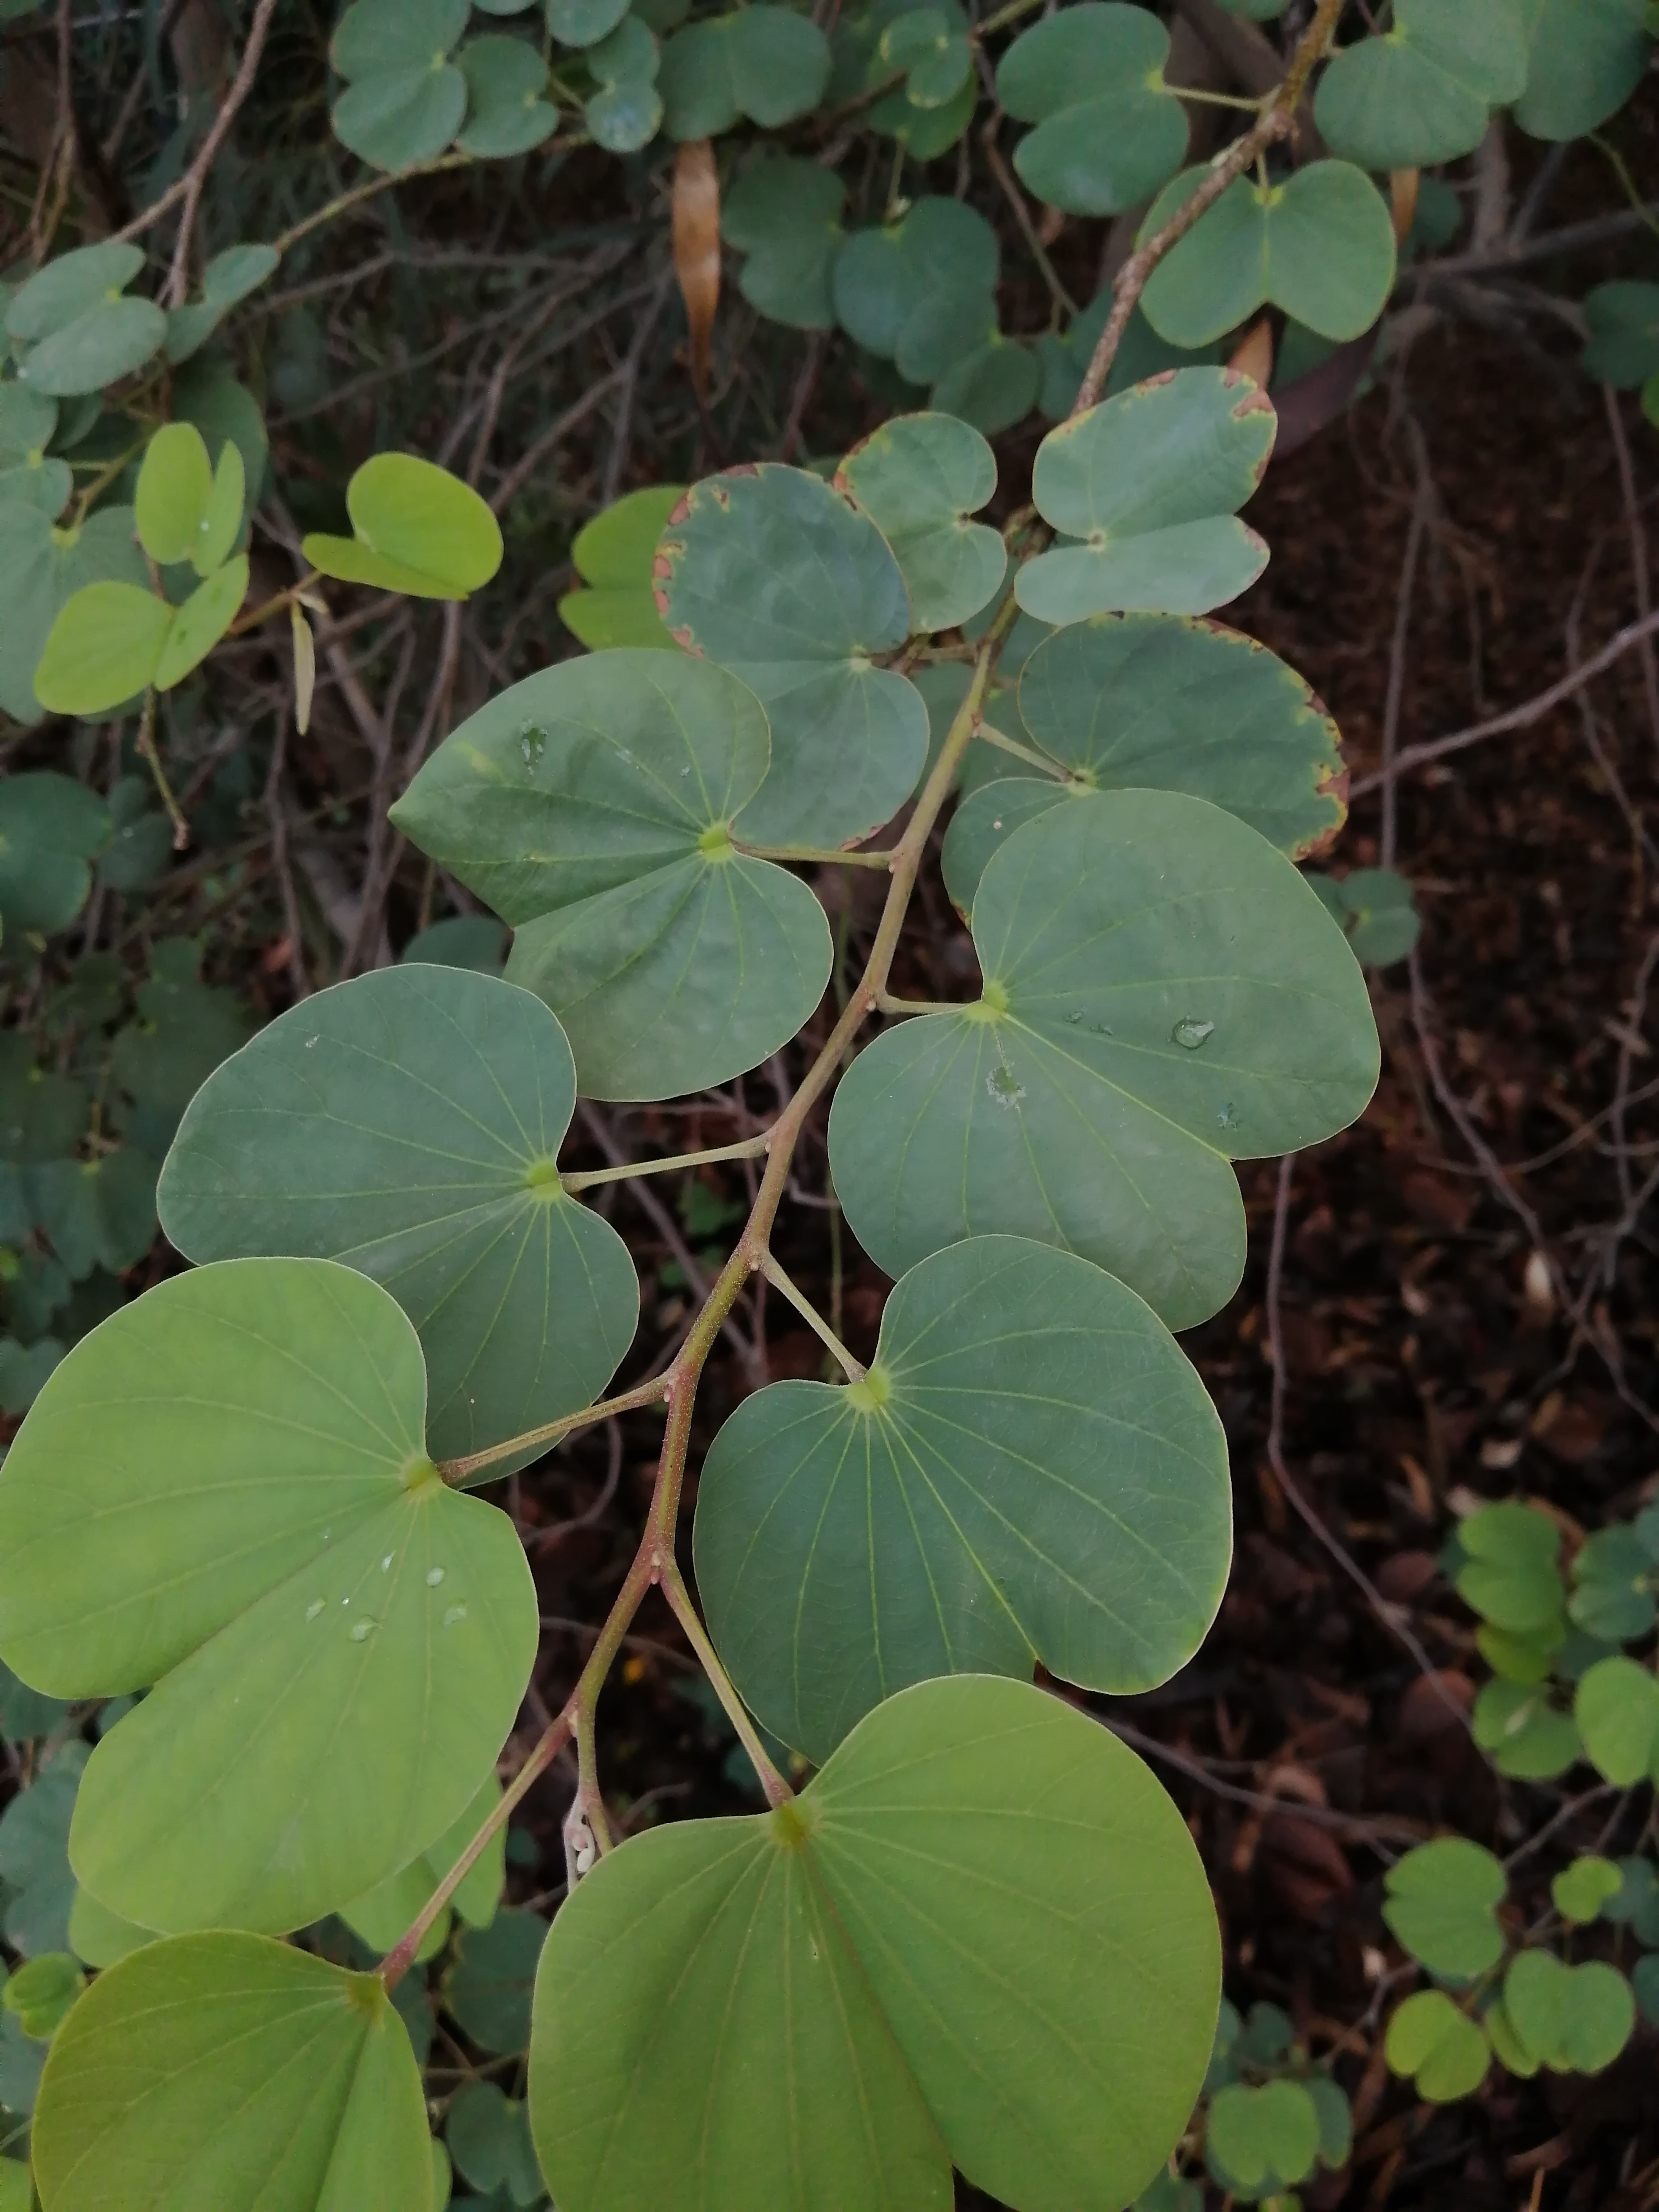healthy: (9, 1198, 532, 1956), (671, 1211, 1284, 1773), (838, 794, 1380, 1332), (155, 949, 634, 1472), (389, 615, 847, 1137), (295, 446, 516, 615)
nothealthy: (519, 1656, 1253, 2205), (629, 446, 931, 874), (3, 1939, 465, 2203), (1007, 343, 1309, 655)
